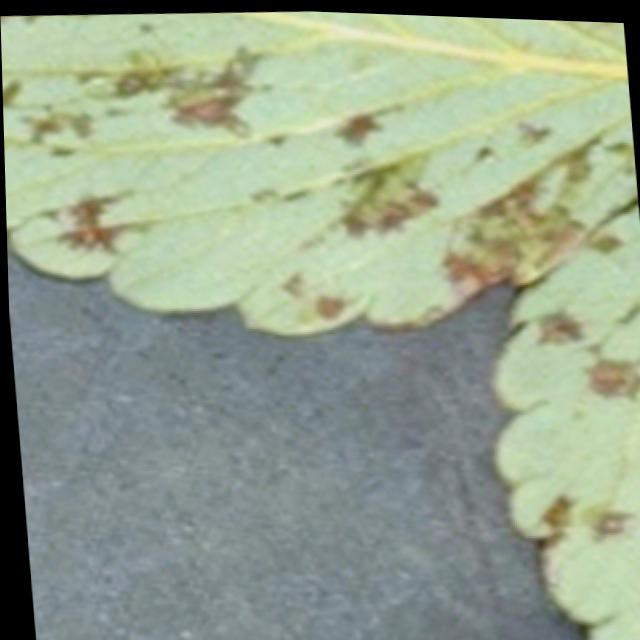Angular Leafspot: (0, 9, 637, 336), (489, 197, 640, 640)
